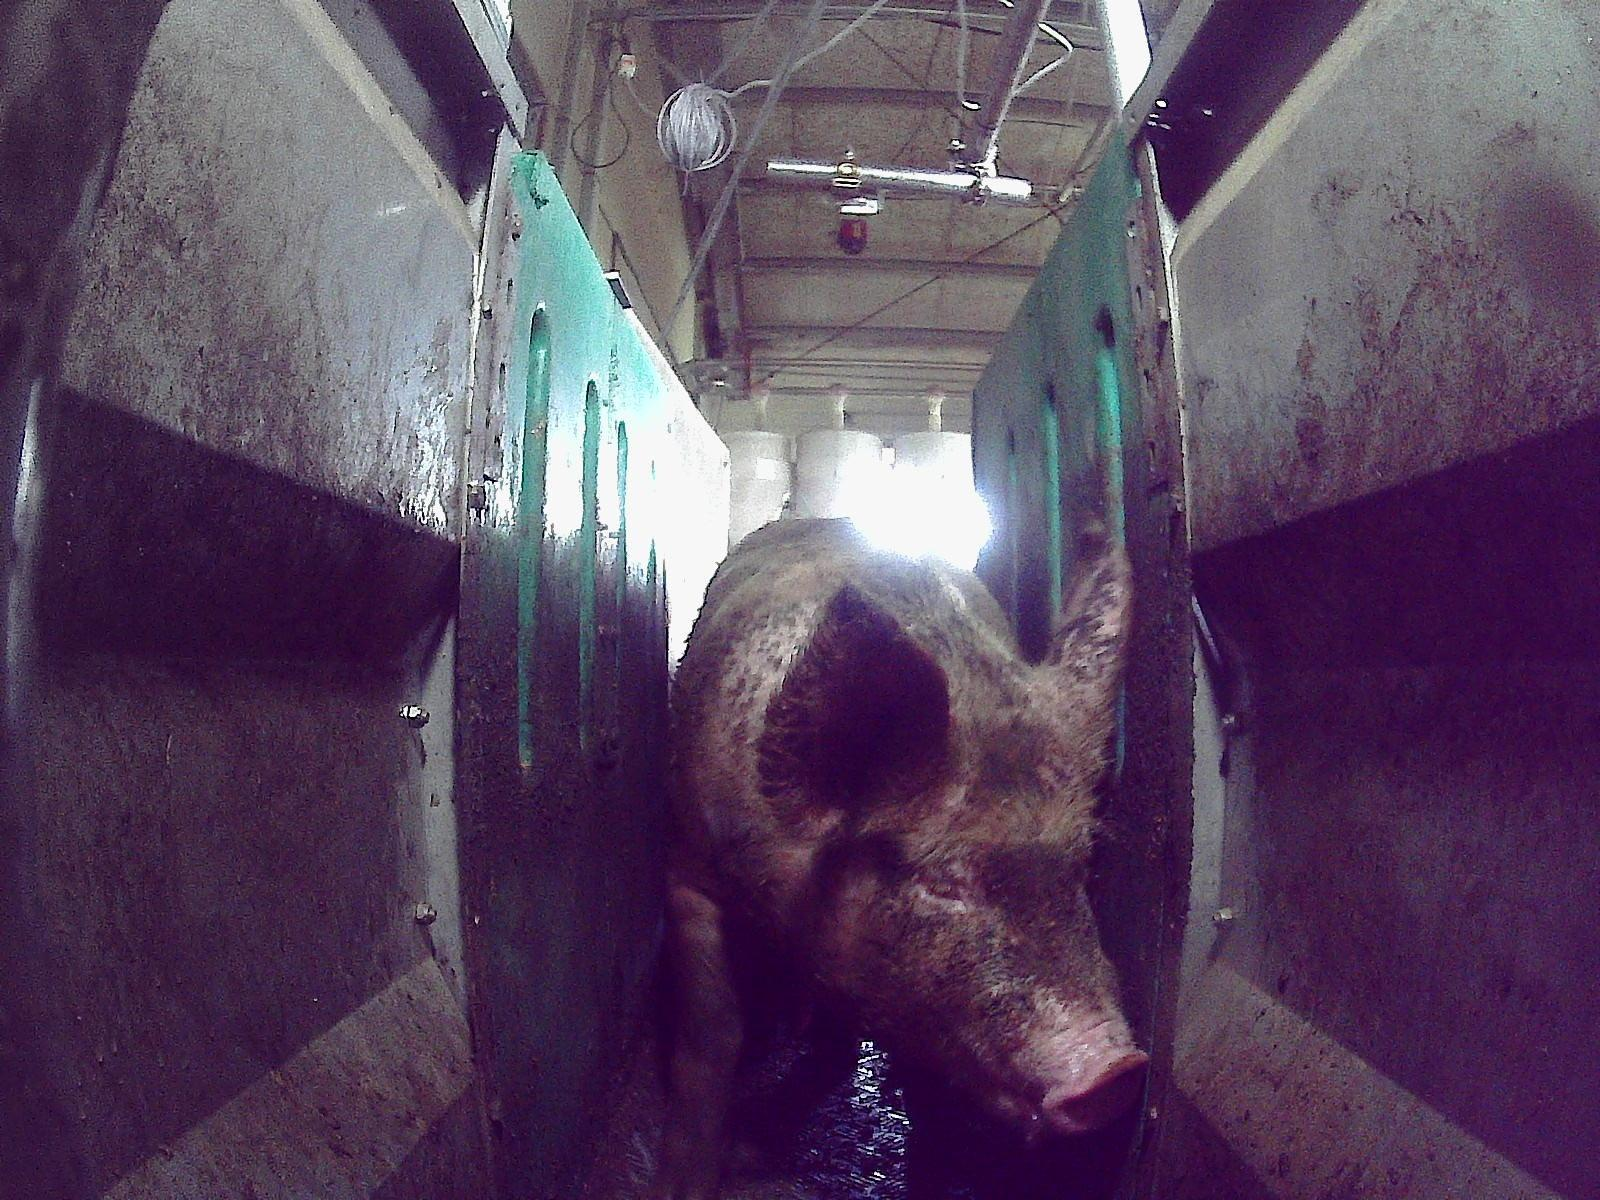Face: (821, 676, 1148, 1150)
